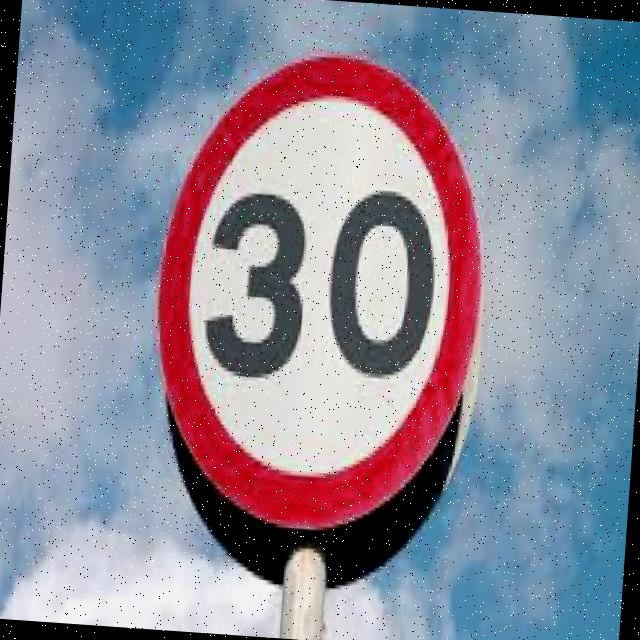Ograniczenie predkosci do 30: (144, 35, 501, 556)
